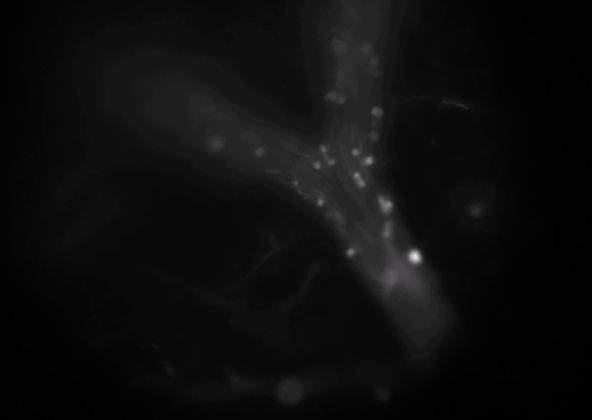cell: (408, 248, 422, 262), (369, 104, 383, 118), (349, 147, 363, 161), (363, 155, 377, 169), (317, 142, 331, 156), (311, 156, 325, 170), (324, 155, 338, 169), (322, 91, 336, 105), (350, 169, 364, 183), (330, 93, 344, 107), (355, 176, 369, 190), (343, 246, 357, 260), (382, 271, 396, 285), (380, 228, 394, 242), (381, 197, 395, 211), (381, 216, 395, 230), (378, 202, 392, 216), (313, 196, 327, 210), (289, 179, 303, 193), (254, 144, 268, 158), (208, 136, 222, 150), (358, 43, 372, 57), (368, 53, 382, 67), (331, 40, 345, 54), (367, 128, 381, 142)
